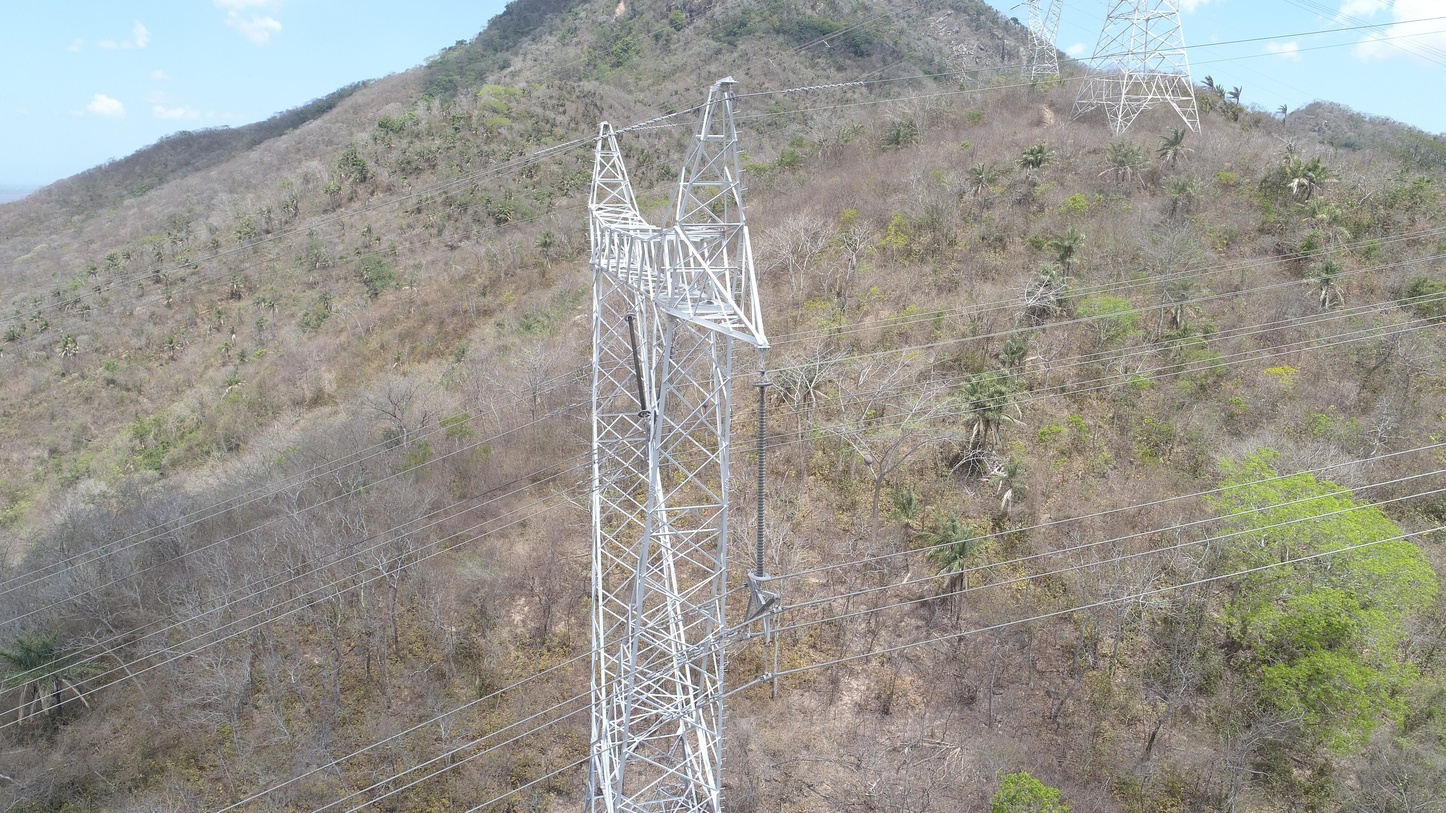power_tower: (586, 76, 778, 812), (1067, 1, 1205, 136), (1008, 2, 1065, 91)
